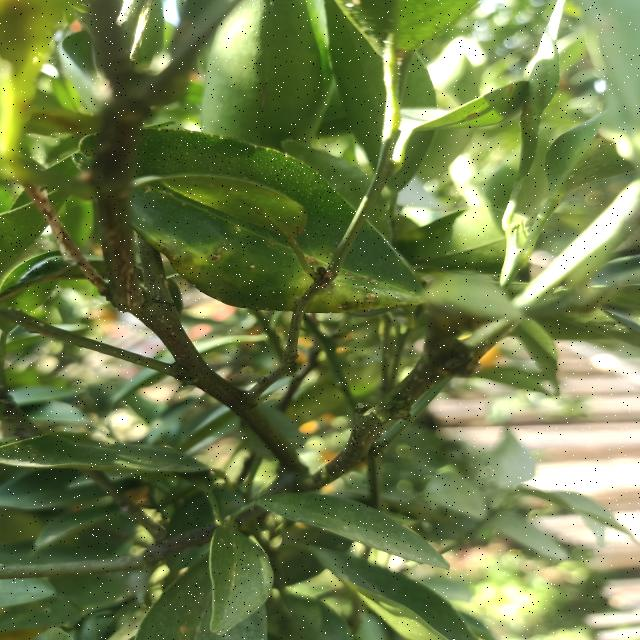canker: (138, 167, 383, 311), (517, 59, 559, 172), (166, 600, 214, 640)
